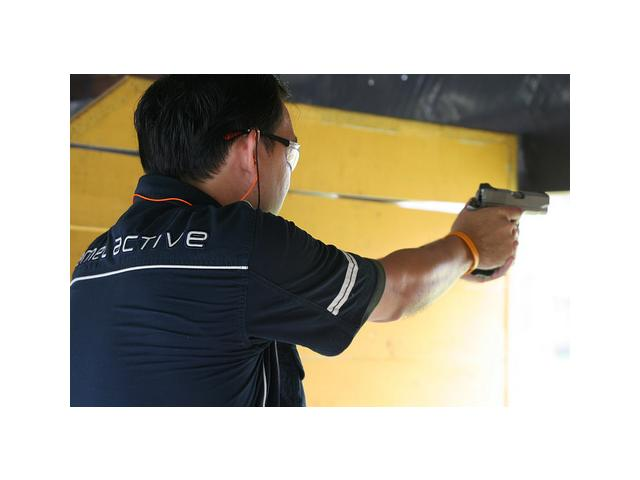pistol: (465, 183, 553, 277)
